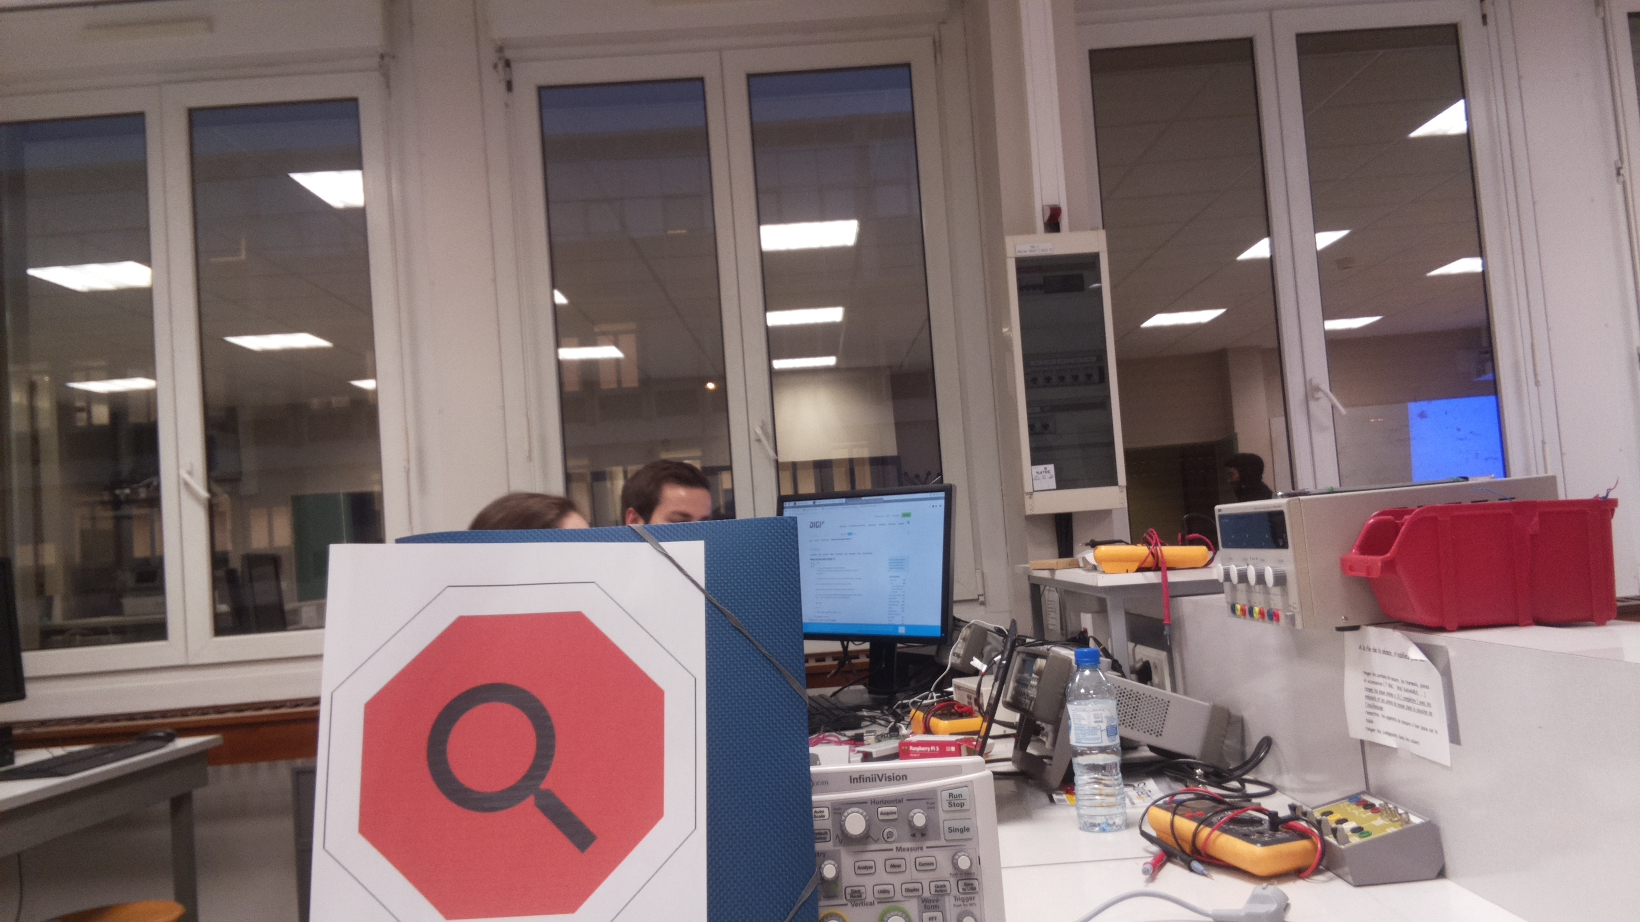search: (333, 581, 695, 922)
